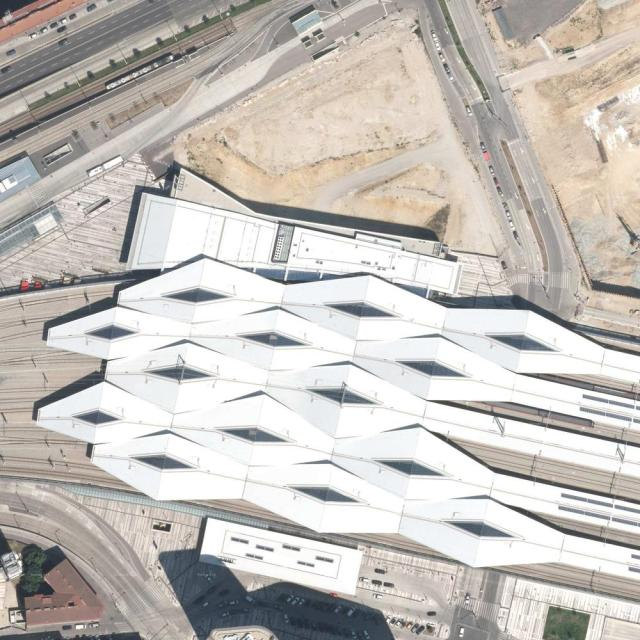building: (19, 197, 640, 601), (124, 160, 468, 296), (197, 517, 364, 597), (0, 154, 41, 202)
dryland: (155, 7, 510, 352)
metalled_road: (492, 0, 584, 44), (448, 607, 512, 640), (474, 569, 507, 623), (99, 604, 136, 637)
